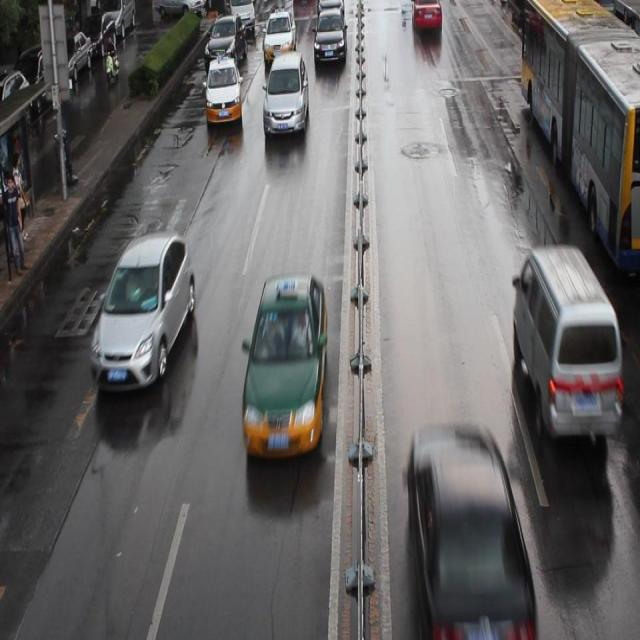car: (404, 419, 536, 640), (90, 232, 197, 389), (240, 269, 328, 458), (205, 59, 242, 124), (203, 15, 248, 66), (313, 9, 347, 62), (262, 9, 295, 62), (216, 1, 255, 31), (410, 1, 442, 29), (316, 1, 345, 19)
truck: (511, 241, 621, 437), (263, 53, 309, 134)
van: (519, 2, 640, 272)
